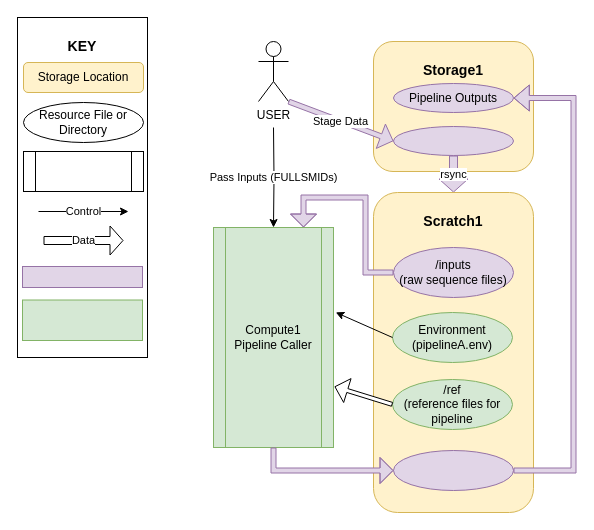
This 594x530 diagram has some shape labels left out. Each missing label, with the centre of its shape:
"/outputs" belongs at pixel 453 470.
"Executable Script" belongs at pixel 83 171.
"Modifiable w/o Changing Code" belongs at pixel 82 319.
"Sequence Data" belongs at pixel 82 277.
"Staged Data" belongs at pixel 453 141.
